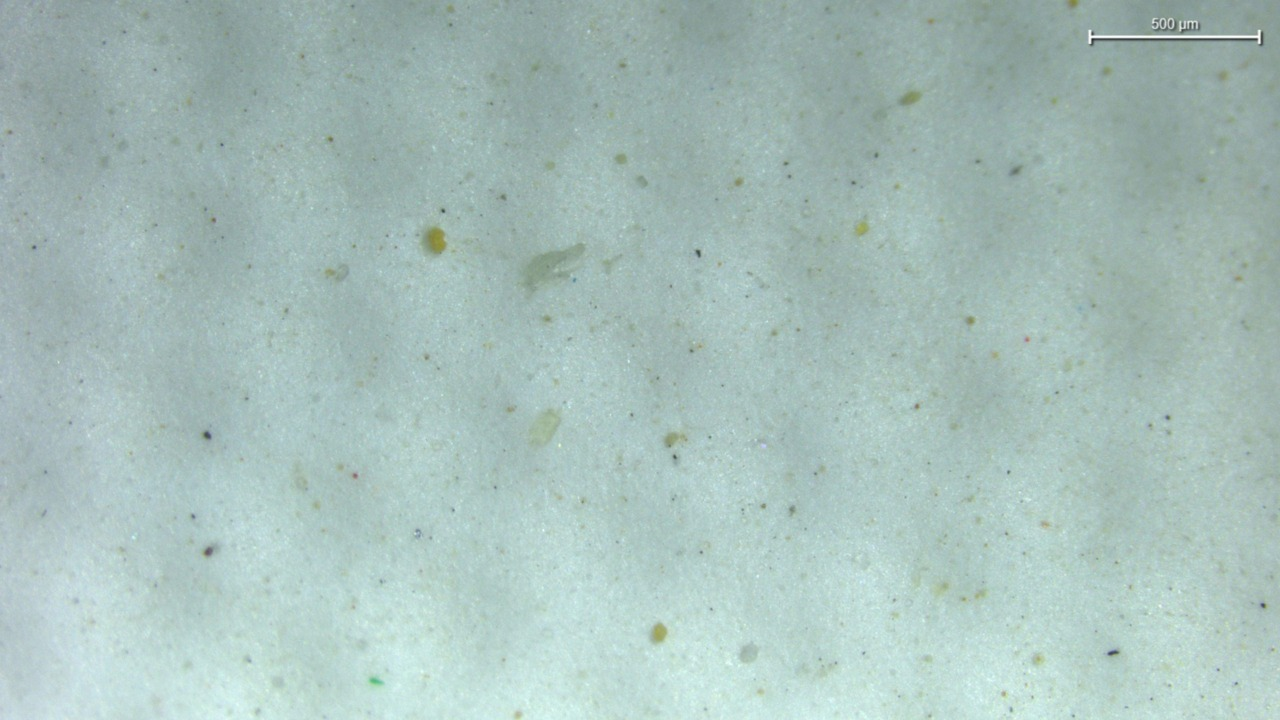microplastic_fragment: (522, 243, 585, 293)
